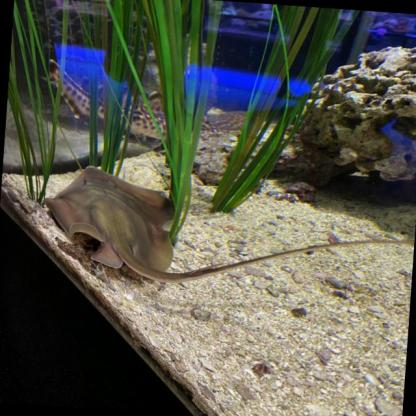stingray: (37, 163, 182, 289)
